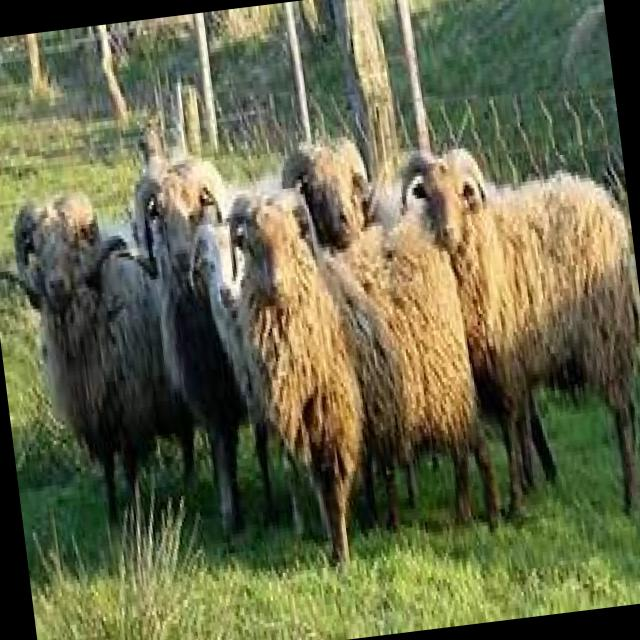animal: (222, 170, 492, 552), (414, 136, 640, 531), (0, 181, 193, 511), (126, 161, 268, 544), (274, 136, 376, 256)
